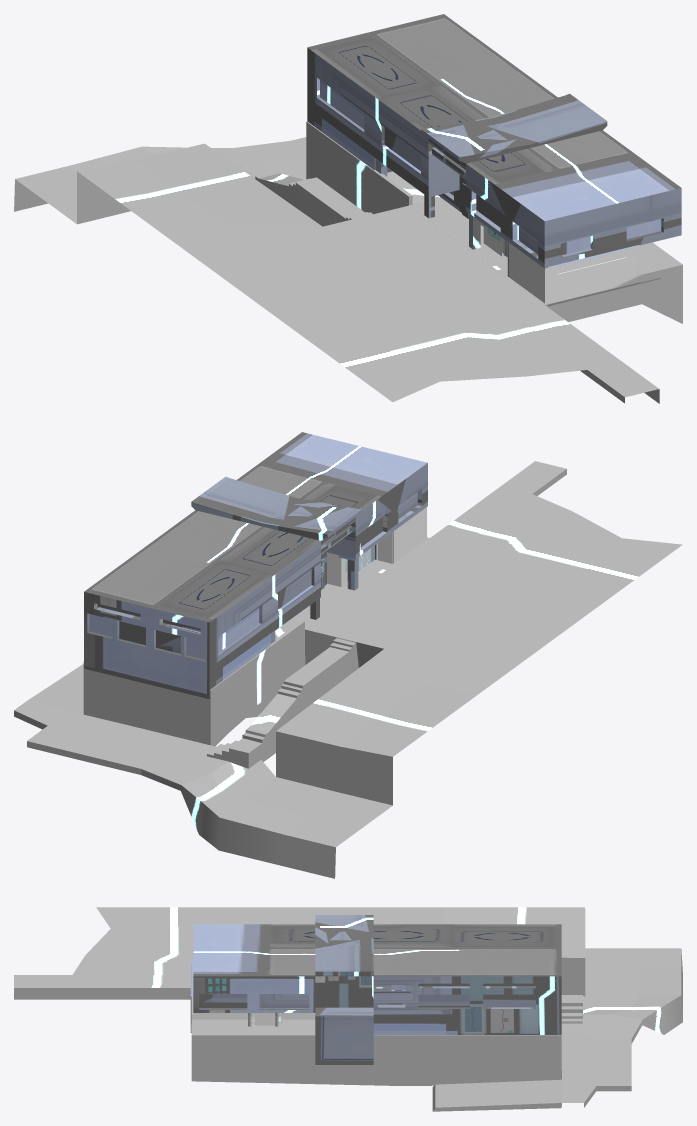
File: Escena Inicio.fbx
3 renders of one model, top to bottom at view 1: azimuth 30°, elevation 25°; view 2: azimuth 150°, elevation 25°; view 3: azimuth 270°, elevation 25°, orthographic. The views are drawn at different scales.
Visible parts, largest first — view 1: piso_rectoria, Rectoria, Estructura, Piso_y_Techo; view 2: piso_rectoria, Rectoria, Estructura; view 3: piso_rectoria, Rectoria, Estructura.
Boxes of the visible parts, box(x1,y1,x2,y2) form: piso_rectoria: box(14, 121, 682, 403); Rectoria: box(307, 14, 681, 268); Estructura: box(483, 224, 636, 303); Piso_y_Techo: box(474, 217, 660, 306); piso_rectoria: box(14, 461, 682, 878); Rectoria: box(84, 432, 427, 699); Estructura: box(327, 507, 426, 586); piso_rectoria: box(14, 907, 682, 1111); Rectoria: box(193, 915, 561, 1064); Estructura: box(194, 1013, 313, 1026).
Size of the model in its own units: 757 by 311 by 1369.
